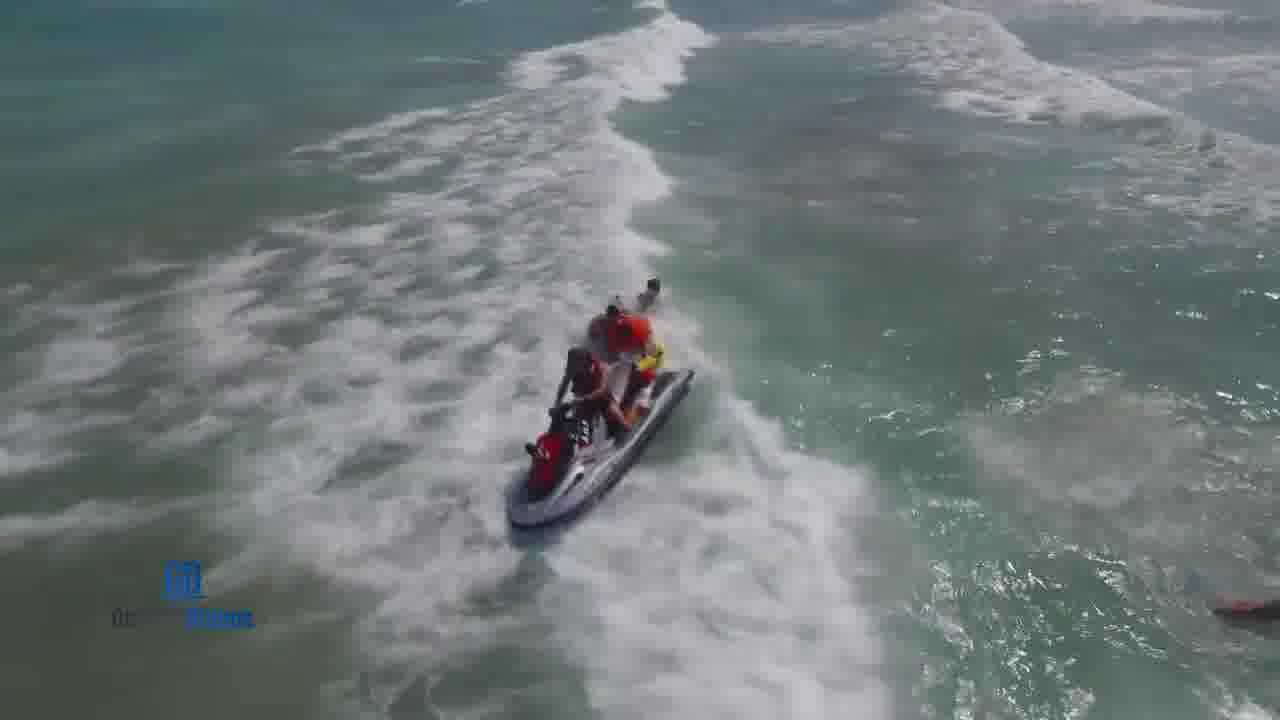human: (573, 300, 662, 355), (1209, 583, 1277, 628), (627, 260, 678, 303)
